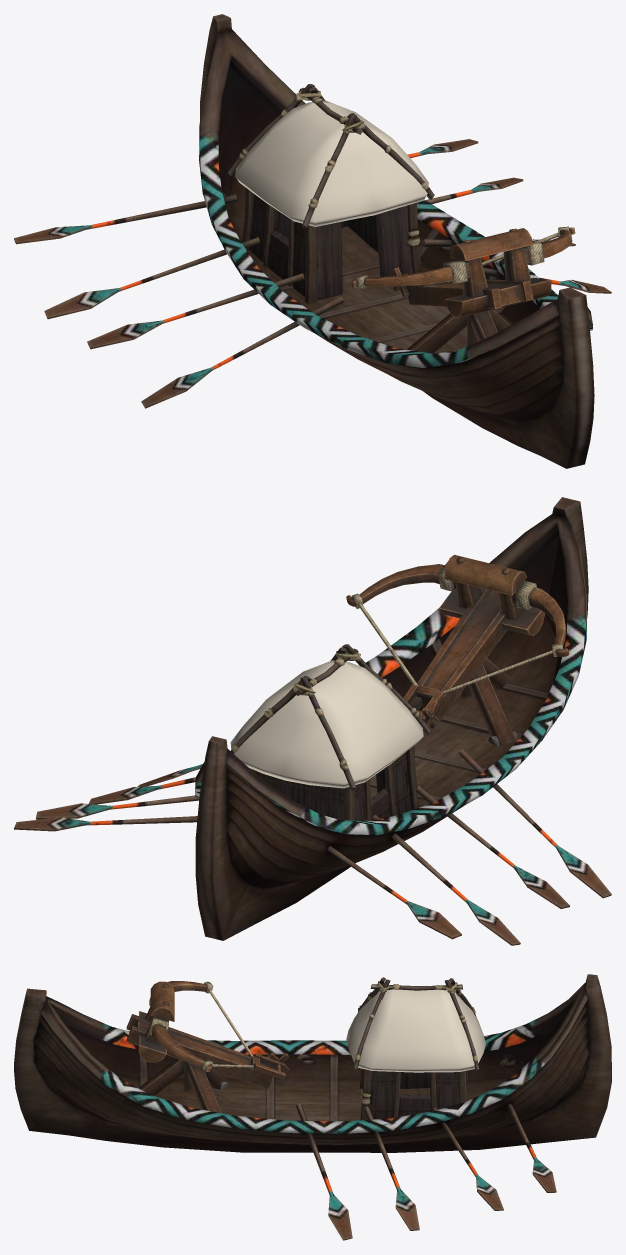
Rendered from 186-atlatlsiegecanoe.glb.
3 renders of one model, top to bottom at view 1: azimuth 30°, elevation 25°; view 2: azimuth 150°, elevation 25°; view 3: azimuth 270°, elevation 25°, orthographic. The views are drawn at different scales.
Size of the model in its own units: 5.28 by 2.28 by 7.11.
4 materials, 3 textured.
